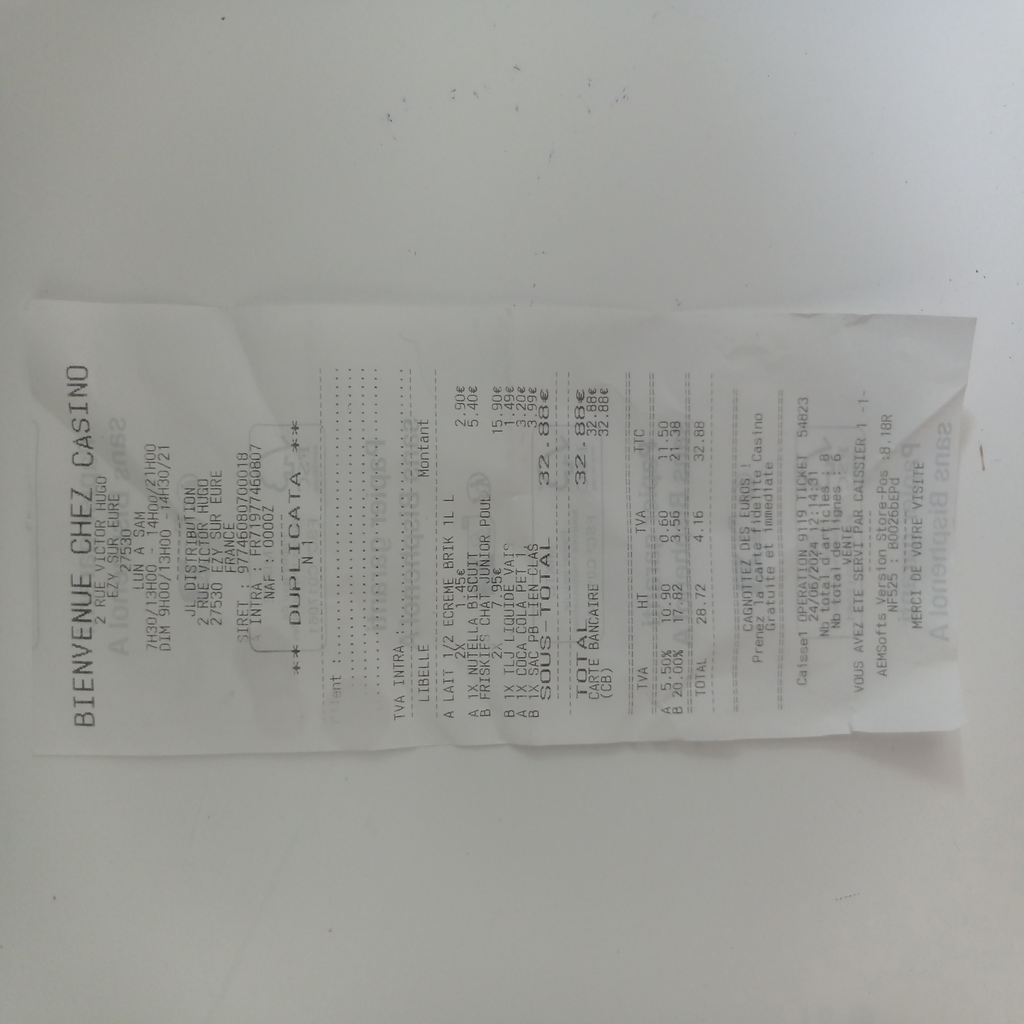recipt: (27, 298, 972, 757)
